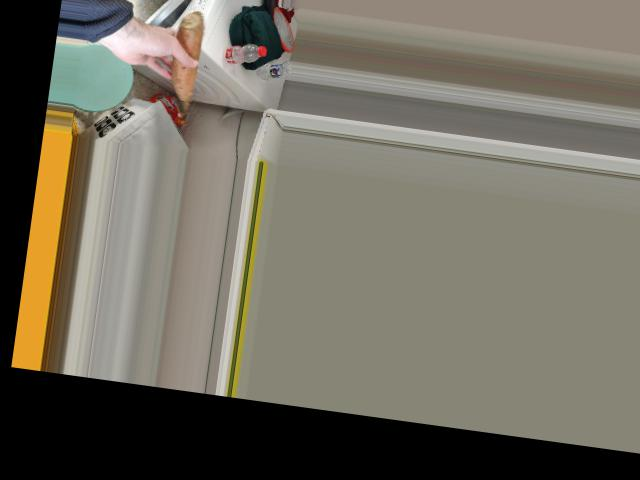sweet_potato: (167, 18, 204, 106)
